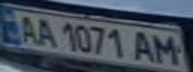0: (72, 22, 93, 54)
1: (106, 26, 130, 60), (54, 20, 78, 52)
7: (87, 24, 109, 56)
A: (127, 28, 157, 63), (12, 11, 42, 45), (33, 16, 57, 48)
M: (148, 32, 187, 65)
